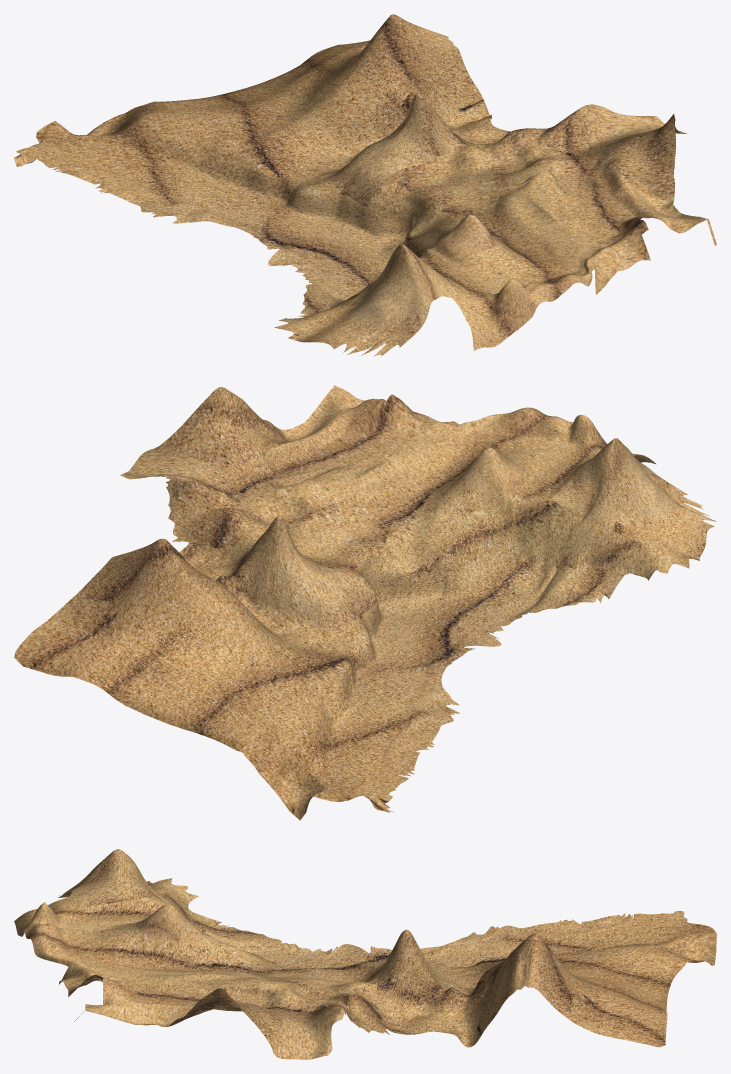
File: montana.obj
3 views of the same model, one above another, from view 1: azimuth 30°, elevation 25°; view 2: azimuth 150°, elevation 25°; view 3: azimuth 270°, elevation 25° (orthographic). The views are drawn at different scales.
Parts seen in each view (by area): view 1: Montanas; view 2: Montanas; view 3: Montanas.
Part boxes in pixels (x1=…): Montanas: x1=14, y1=14, x2=716, y2=356; Montanas: x1=14, y1=385, x2=716, y2=820; Montanas: x1=14, y1=849, x2=716, y2=1059.
Size of the model in its own units: 36.64 by 10.82 by 50.66.
